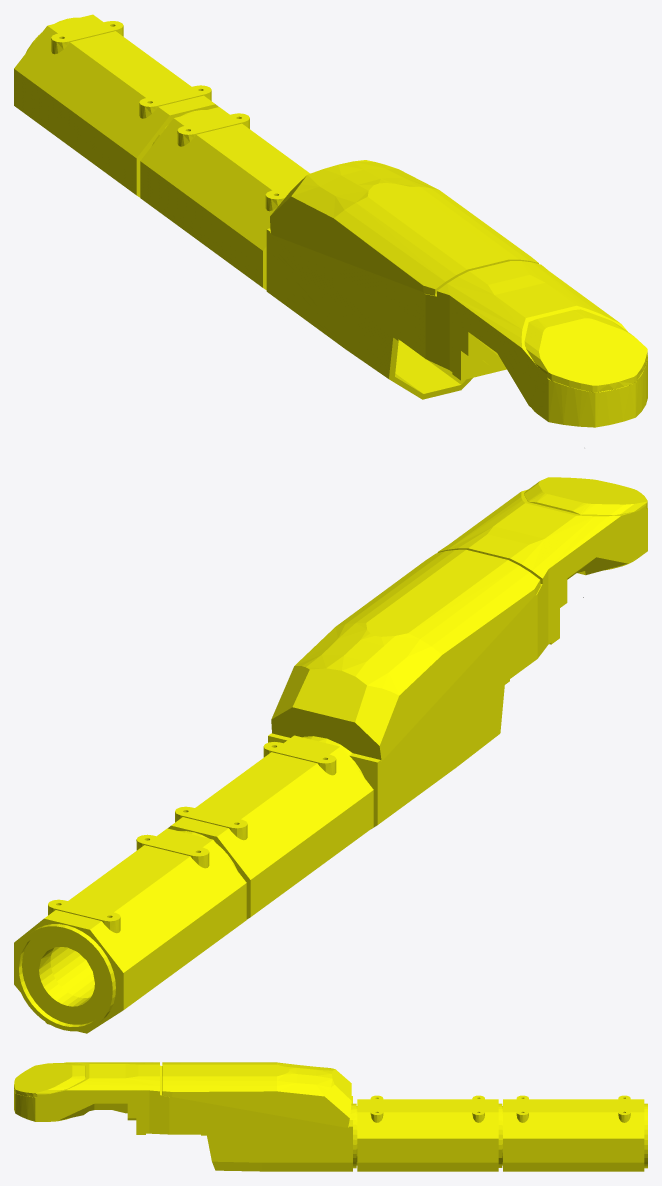
3 views of the same model, one above another, from view 1: azimuth 30°, elevation 25°; view 2: azimuth 150°, elevation 25°; view 3: azimuth 270°, elevation 25° (orthographic). The views are drawn at different scales.
Visible parts, largest first — view 1: node; view 2: node; view 3: node.
Part boxes in pixels (<box>): node: <box>14,14,647,448</box>; node: <box>14,477,647,1033</box>; node: <box>14,1062,647,1171</box>.
Bounding box in the file's own units: 110 × 160 × 957.
